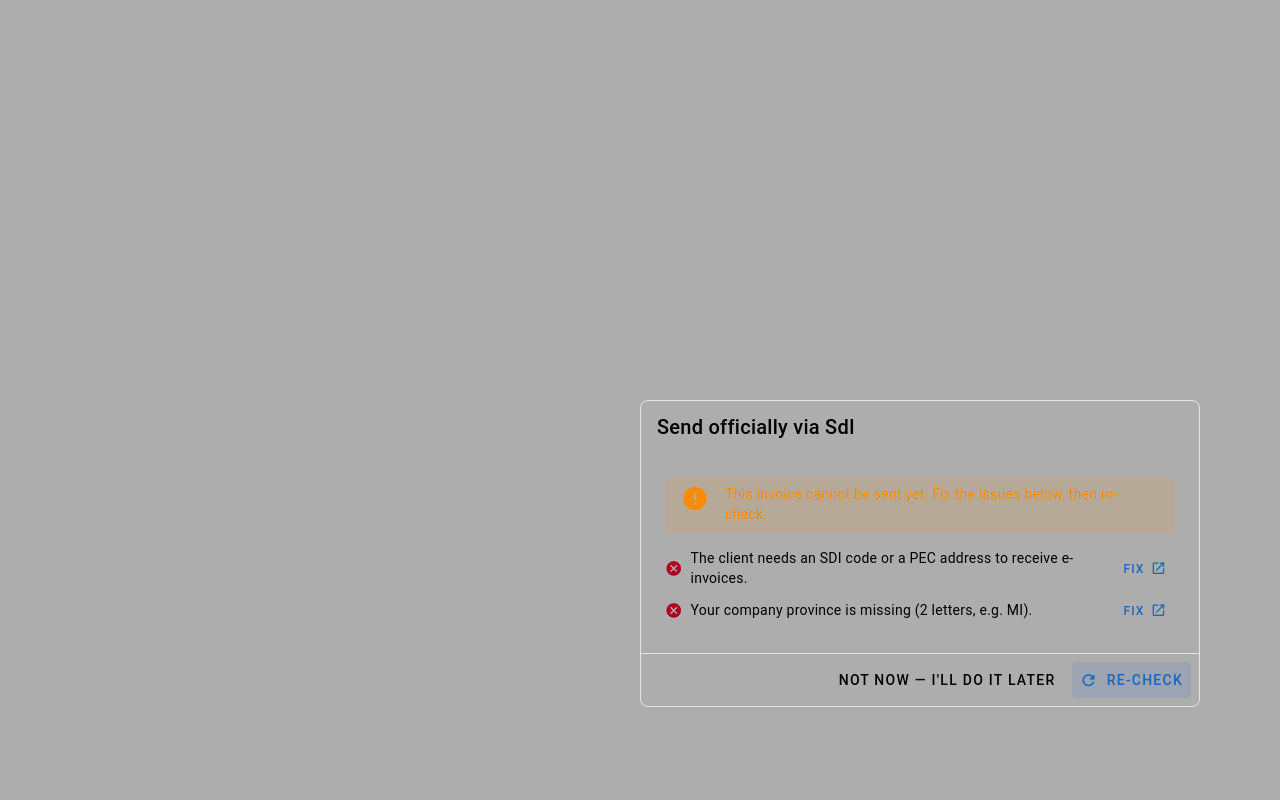
Test: EInvoiceSubmitStep › blocked: lists the issues with Fix links opening in a new tab, no Send, and Re-check re-runs the preflight
This screenshot has width=1280, height=800.
Expected: the message "This invoice cannot be sent yet. Fix the issues below, then re-check." is shown, [665,477,1175,533]
Expected: the element with test id "issue-client.routing_missing" shows "SDI code or a PEC", [690,550,1074,586]
Click the button with test id "einvoice-recheck". click: (1131, 680)
box: [1072,662,1191,698]
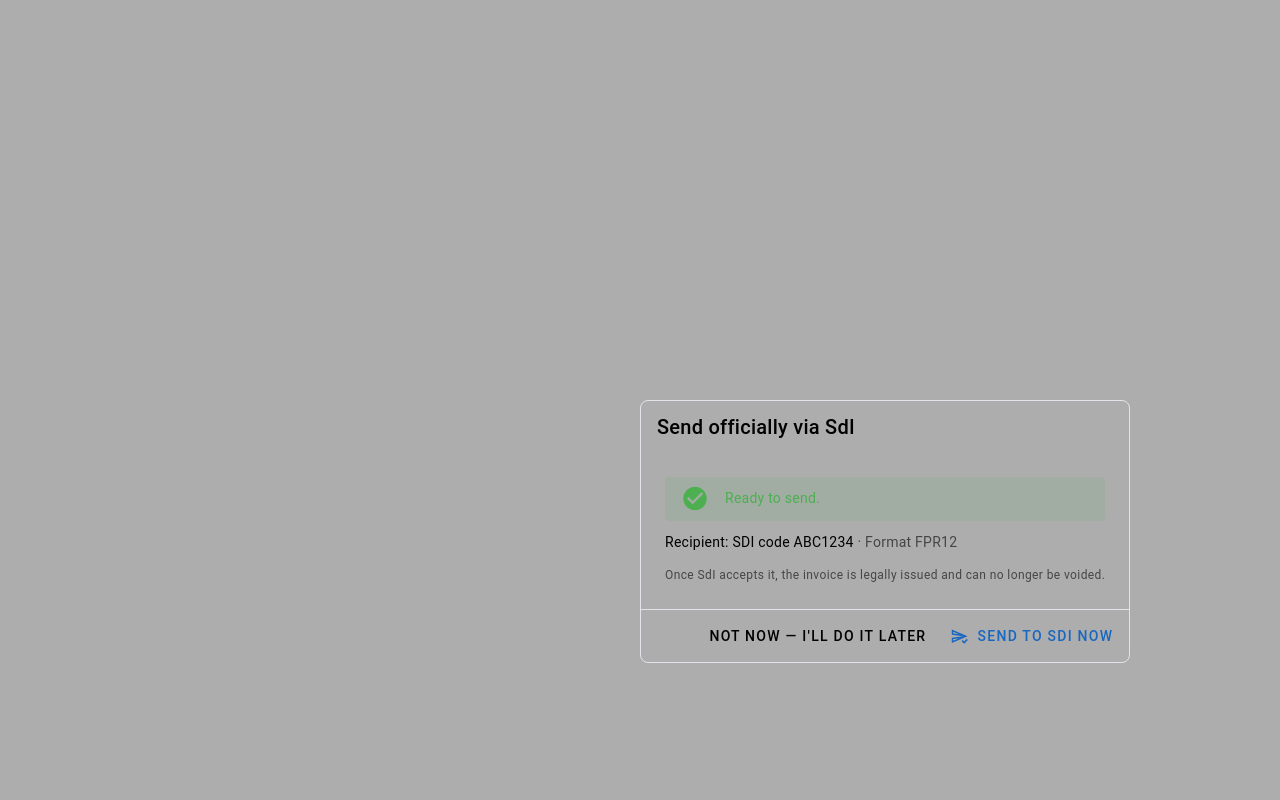
Expected: the message "Ready to send." is shown, [665,477,1105,521]
